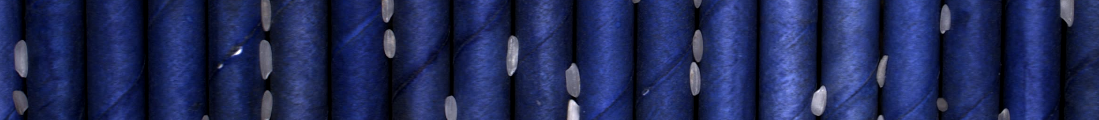broken_grain: (9, 87, 29, 117), (1056, 1, 1077, 28), (376, 1, 398, 25), (933, 94, 947, 112)
complete_grain: (254, 37, 278, 84), (12, 34, 30, 82), (936, 1, 955, 39), (562, 58, 581, 96), (686, 59, 703, 99), (690, 23, 707, 63), (873, 50, 890, 90), (380, 26, 399, 61), (442, 91, 461, 120), (259, 85, 274, 120), (259, 1, 272, 34)
milky_broken_grain: (565, 97, 583, 120)
milky_grain: (807, 77, 828, 115), (505, 33, 521, 79)
